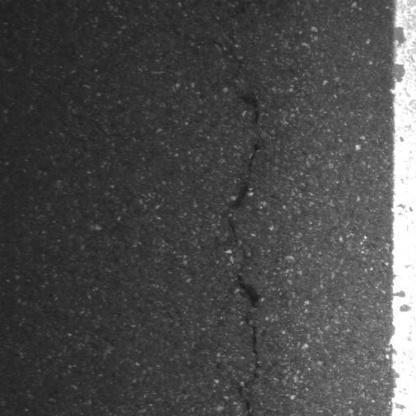Cracks: (218, 90, 268, 416)
